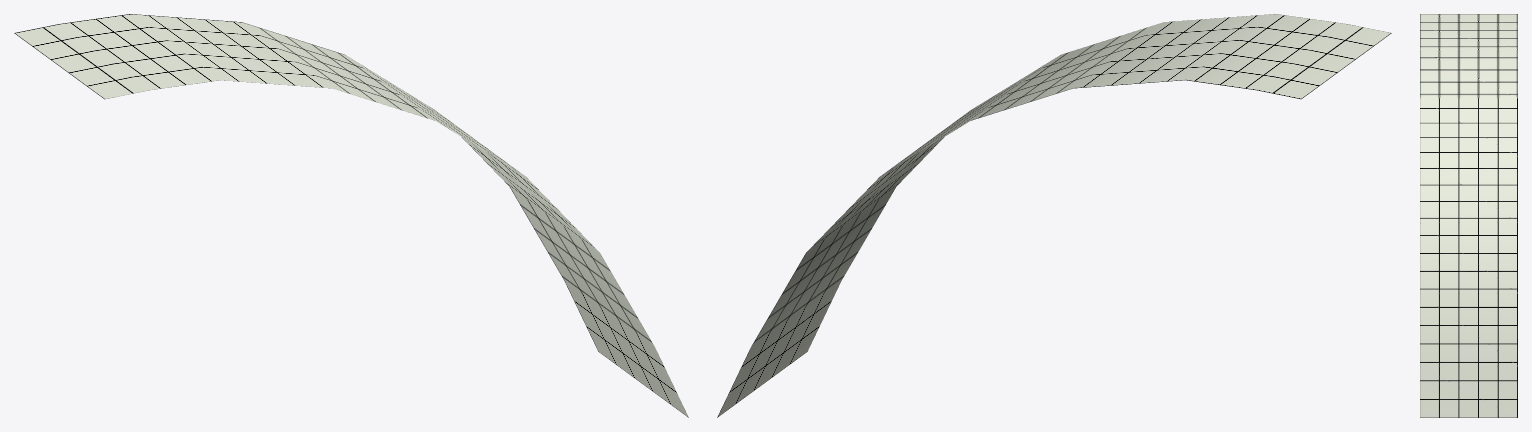
The model's file is Wall_Circle_wide_tunnel.fbx.
The picture shows the model from 3 angles, left to right: view 1: azimuth 30°, elevation 25°; view 2: azimuth 150°, elevation 25°; view 3: azimuth 270°, elevation 25°; orthographic projection. The views are drawn at different scales.
Parts seen in each view (by area): view 1: Wall_Circle_wide_tunnel; view 2: Wall_Circle_wide_tunnel; view 3: Wall_Circle_wide_tunnel.
Boxes of the visible parts, x1,y1,x2,y2 form: Wall_Circle_wide_tunnel: (14,14,688,417); Wall_Circle_wide_tunnel: (717,14,1391,417); Wall_Circle_wide_tunnel: (1420,14,1517,417).
Bounding box in the file's own units: 373 × 281 × 100.
